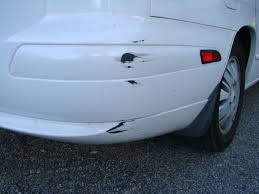Scratch: (119, 35, 151, 88), (106, 119, 132, 136)
